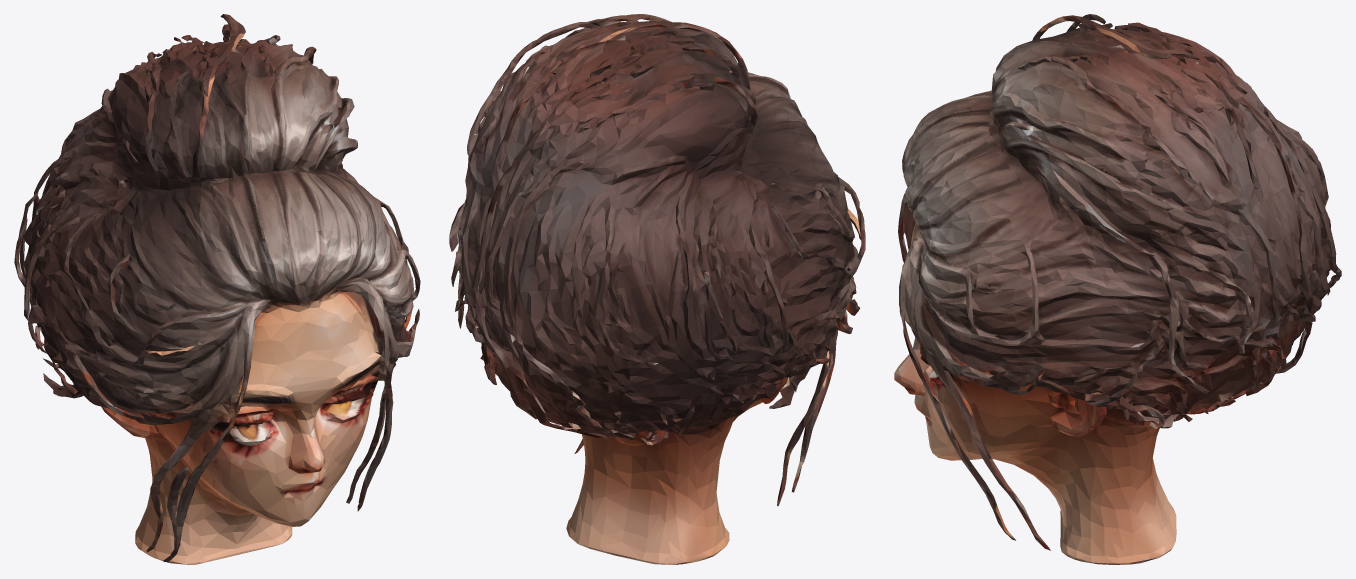
The model's file is side_h_jadeseller_repaired_atlas.glb.
3 views of the same model, side by side, from view 1: azimuth 30°, elevation 25°; view 2: azimuth 150°, elevation 25°; view 3: azimuth 270°, elevation 25° (orthographic). The views are drawn at different scales.
Parts seen in each view (by area): view 1: temp_mesh.ply; view 2: temp_mesh.ply; view 3: temp_mesh.ply.
Boxes of the visible parts, left/top/right/bottom form: temp_mesh.ply: left=14, top=14, right=420, bottom=564; temp_mesh.ply: left=449, top=14, right=865, bottom=564; temp_mesh.ply: left=894, top=14, right=1341, bottom=564.
Bounding box in the file's own units: 1.14 × 1.61 × 1.28.
Materials: 1 (1 with a texture image).
